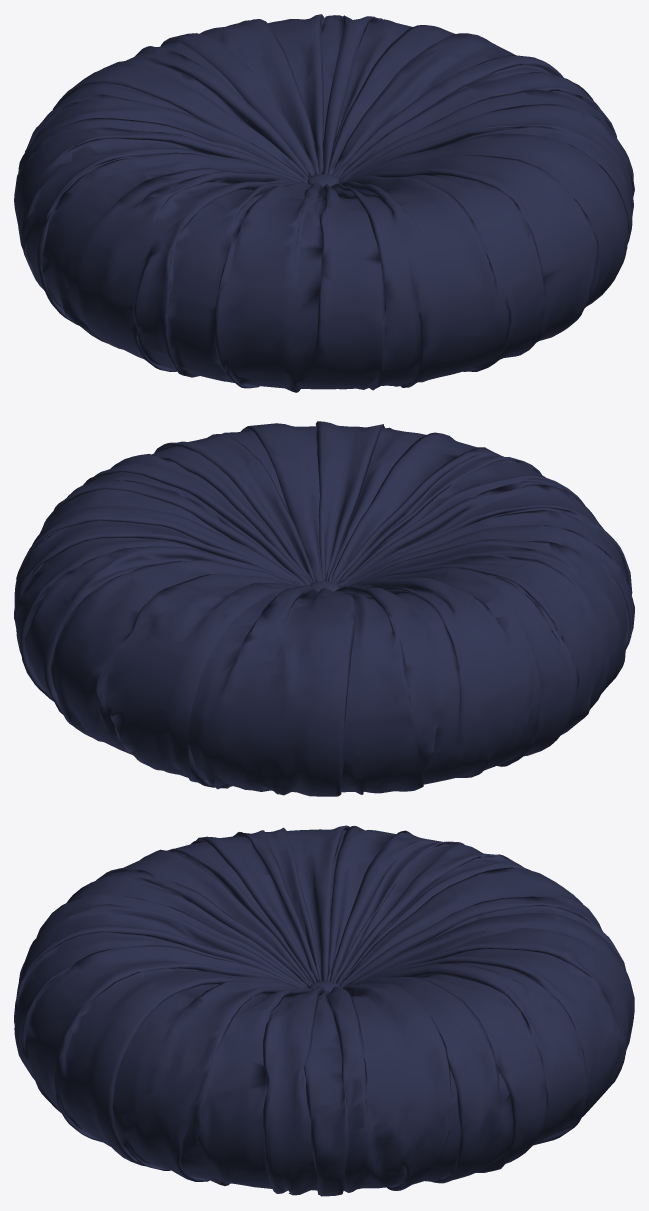
The model's file is casa-pouf.glb.
3 renders of one model, top to bottom at view 1: azimuth 30°, elevation 25°; view 2: azimuth 150°, elevation 25°; view 3: azimuth 270°, elevation 25°, orthographic.
Visible parts, largest first — view 1: SpecularSilkPouf; view 2: SpecularSilkPouf; view 3: SpecularSilkPouf.
Boxes of the visible parts, bbox=[...] form: SpecularSilkPouf: bbox=[14, 14, 634, 392]; SpecularSilkPouf: bbox=[14, 421, 634, 796]; SpecularSilkPouf: bbox=[14, 825, 634, 1196].
Size of the model in its own units: 0.6099 by 0.1978 by 0.6096.
